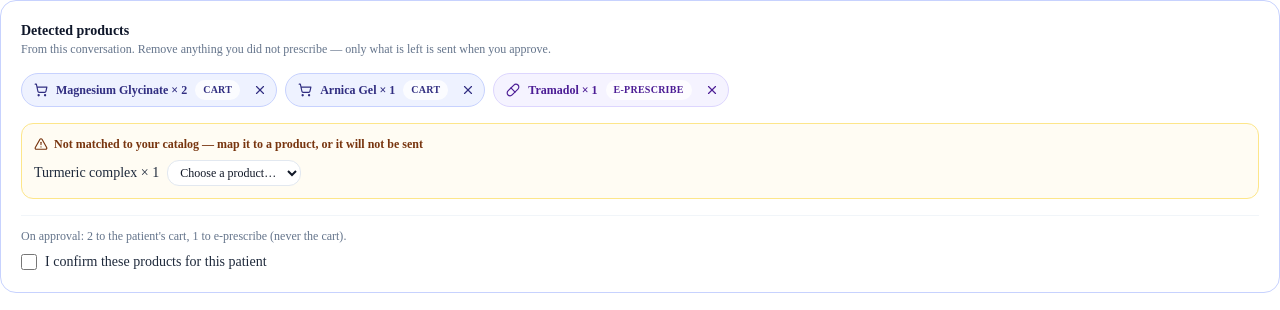
Test: F5.1 DetectedProductsPanel › a removed chip is not sent, and removing resets the confirmation
Expected: the text "Magnesium Glycinate × 2" is shown, [56,82,187,98]
Click the checkbox labelled "I confirm these products for this patient".
click(29, 262)  # box [21,254,37,270]
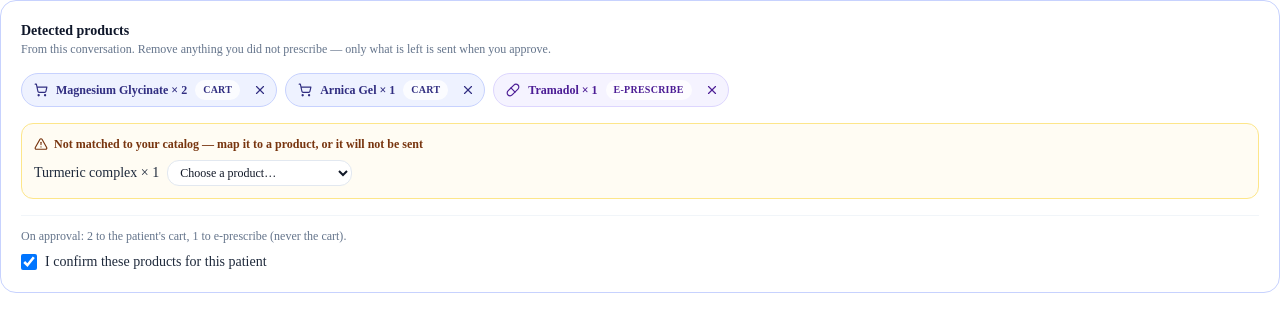
Click the button named "Remove Arnica Gel".
click(468, 90)  # box [456,78,480,102]
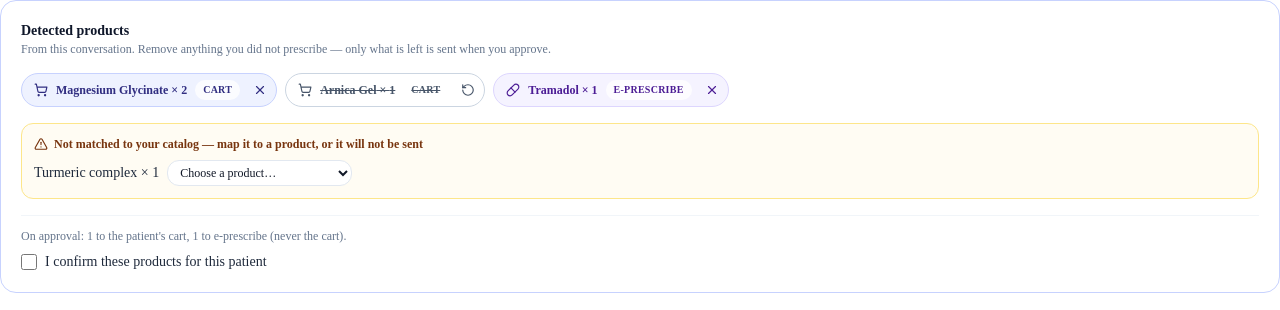
Now the button named "Restore Arnica Gel" is shown, box [456,78,480,102]
Now the text with test id "rx-send-summary" shows "1 to the patient's cart, 1 to e-prescribe", box [21,229,346,243]
